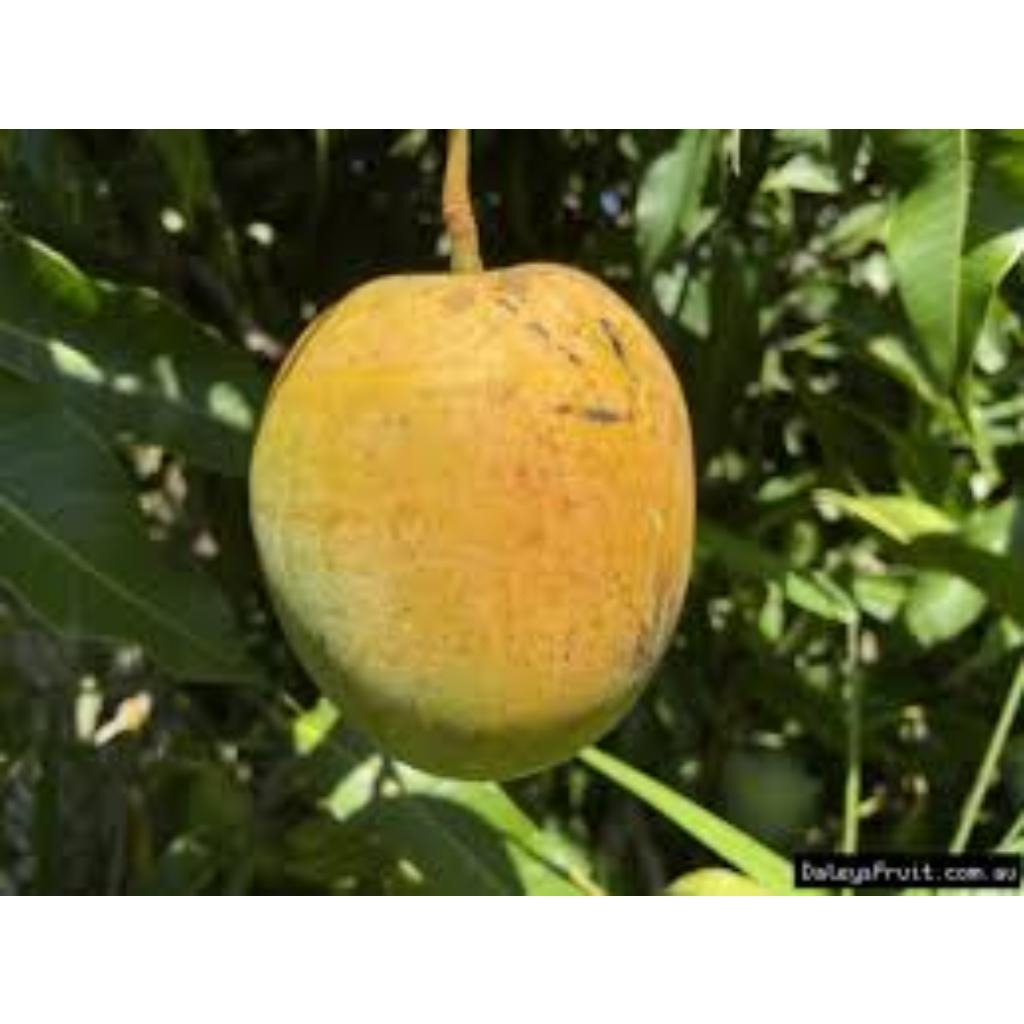mango: (250, 262, 694, 777)
